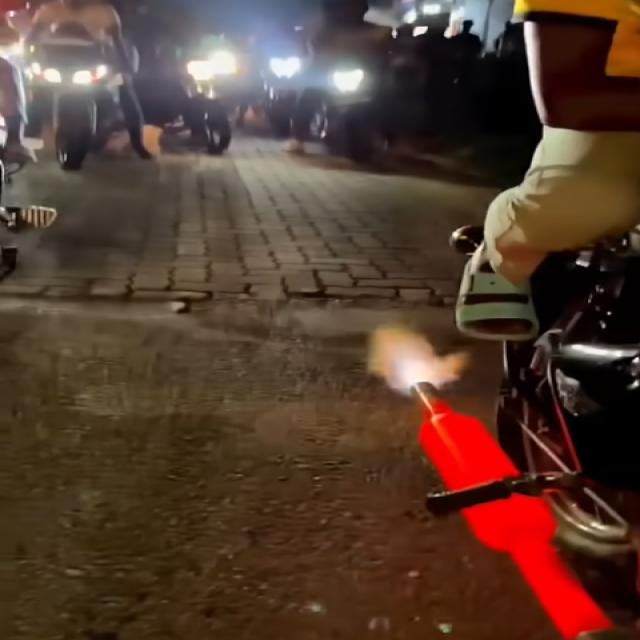fire: (372, 326, 468, 394)
